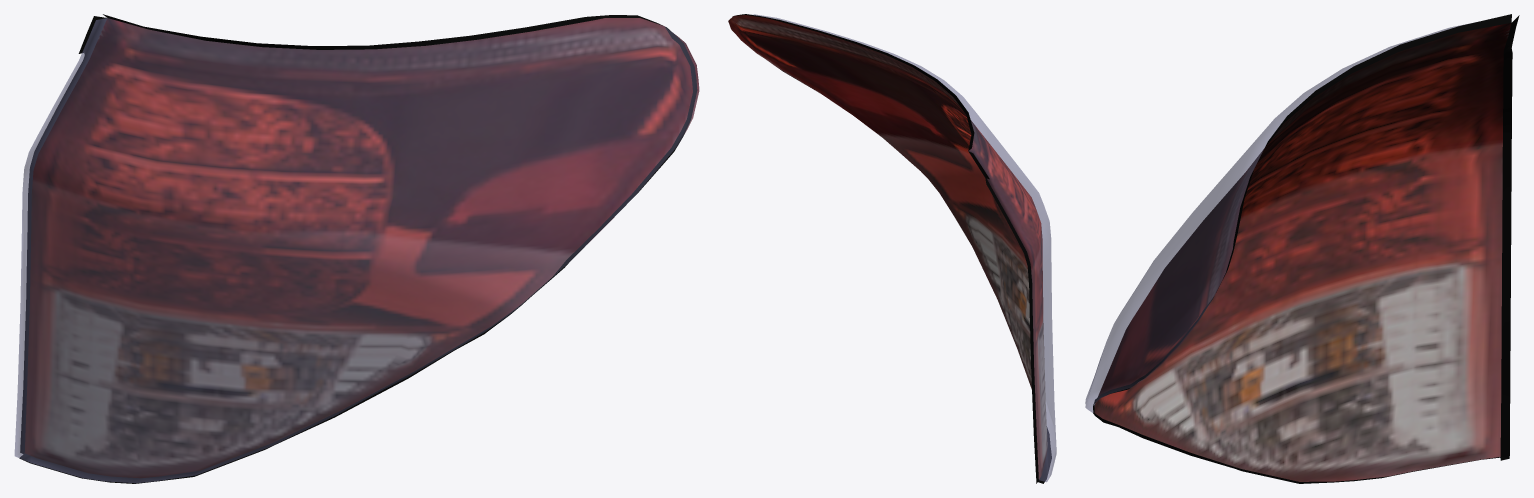
3 views of the same model, side by side, from view 1: azimuth 30°, elevation 25°; view 2: azimuth 150°, elevation 25°; view 3: azimuth 270°, elevation 25° (orthographic). The views are drawn at different scales.
Parts seen in each view (by area): view 1: Y712_541C_R_1_DTaSI_Y712_541C_R, Y712_541C_R_Y712_541C_R_2_N, Y712_541C_R_Y712_541C_R_3_D; view 2: Y712_541C_R_Y712_541C_R_2_N, Y712_541C_R_1_DTaSI_Y712_541C_R, Y712_541C_R_Y712_541C_R_3_D; view 3: Y712_541C_R_Y712_541C_R_2_N, Y712_541C_R_1_DTaSI_Y712_541C_R, Y712_541C_R_Y712_541C_R_3_D.
Boxes of the visible parts, left/top/right/bottom form: Y712_541C_R_1_DTaSI_Y712_541C_R: left=14, top=18, right=698, bottom=483; Y712_541C_R_Y712_541C_R_2_N: left=24, top=18, right=699, bottom=478; Y712_541C_R_Y712_541C_R_3_D: left=19, top=14, right=697, bottom=483; Y712_541C_R_Y712_541C_R_2_N: left=728, top=15, right=1047, bottom=478; Y712_541C_R_1_DTaSI_Y712_541C_R: left=752, top=14, right=1056, bottom=481; Y712_541C_R_Y712_541C_R_3_D: left=732, top=14, right=1051, bottom=483; Y712_541C_R_Y712_541C_R_2_N: left=1094, top=23, right=1511, bottom=481; Y712_541C_R_1_DTaSI_Y712_541C_R: left=1085, top=23, right=1468, bottom=412; Y712_541C_R_Y712_541C_R_3_D: left=1093, top=14, right=1519, bottom=483.
Size of the model in its own units: 44.52 by 32.62 by 25.96.
